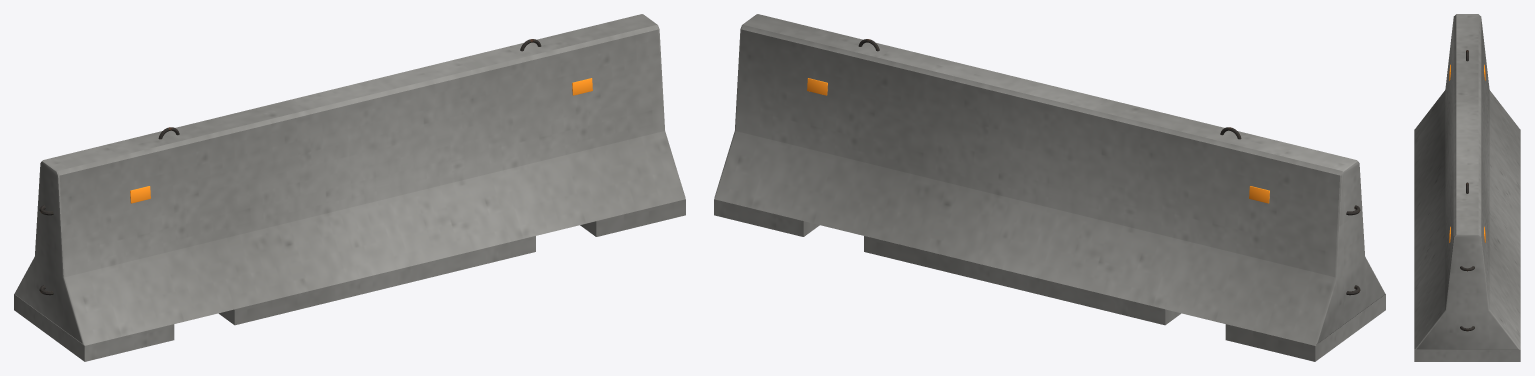
File: parking-concrete-barrier.glb
The picture shows the model from 3 angles, left to right: view 1: azimuth 30°, elevation 25°; view 2: azimuth 150°, elevation 25°; view 3: azimuth 270°, elevation 25°; orthographic projection. The views are drawn at different scales.
Parts seen in each view (by area): view 1: Concrete_Barrier; view 2: Concrete_Barrier; view 3: Concrete_Barrier.
Part boxes in pixels (x1,y1,x2,y2): Concrete_Barrier: (14,14,685,361); Concrete_Barrier: (714,14,1385,361); Concrete_Barrier: (1414,14,1520,361).
Bounding box in the file's own units: 3.08 × 0.853 × 0.61.
Materials: 3 (2 with a texture image).
